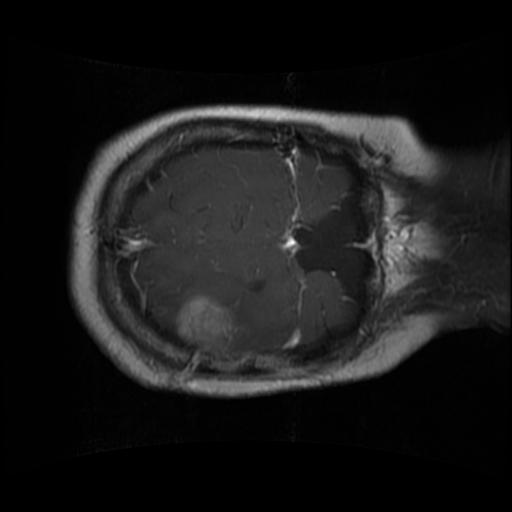glioma: (171, 291, 244, 359)
